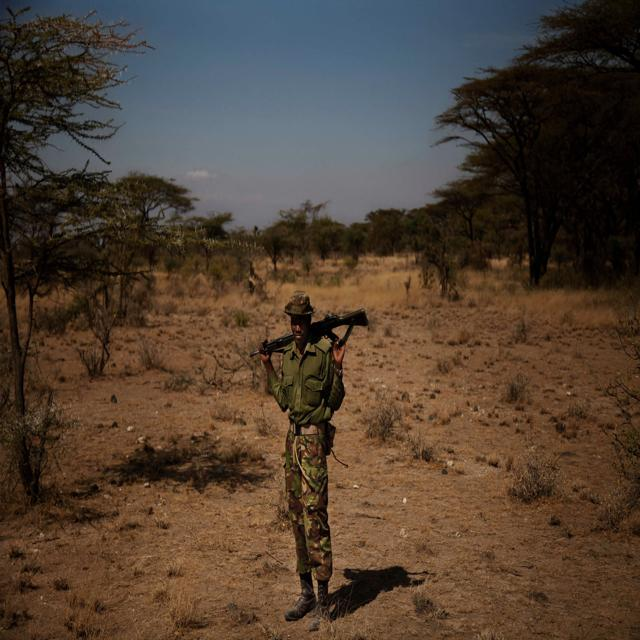gun: (246, 288, 382, 381)
ranger: (221, 267, 401, 640)
